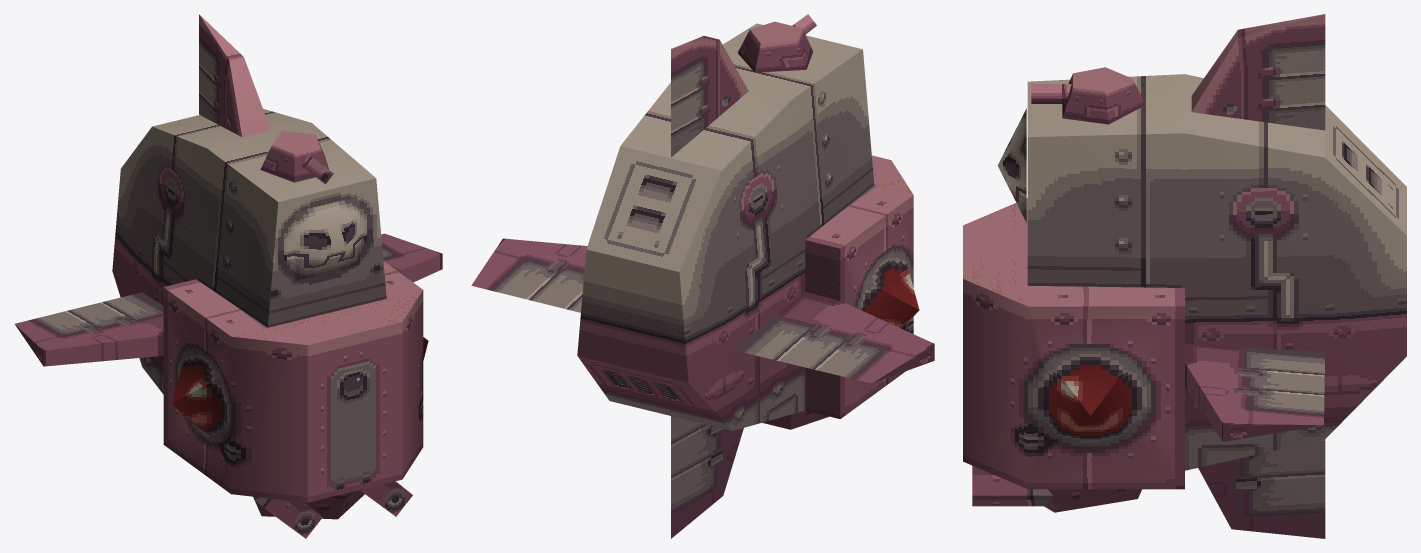
3 renders of one model, left to right at view 1: azimuth 30°, elevation 25°; view 2: azimuth 150°, elevation 25°; view 3: azimuth 270°, elevation 25°, orthographic. The views are drawn at different scales.
Parts seen in each view (by area): view 1: nodes_0__075Baked; view 2: nodes_0__075Baked; view 3: nodes_0__075Baked.
Boxes of the visible parts, x1=… form: nodes_0__075Baked: x1=15, y1=14, x2=442, y2=538; nodes_0__075Baked: x1=471, y1=14, x2=934, y2=538; nodes_0__075Baked: x1=963, y1=14, x2=1406, y2=538.
Bounding box in the file's own units: 44.36 × 48.1 × 36.84.
Materials: 1 (1 with a texture image).
